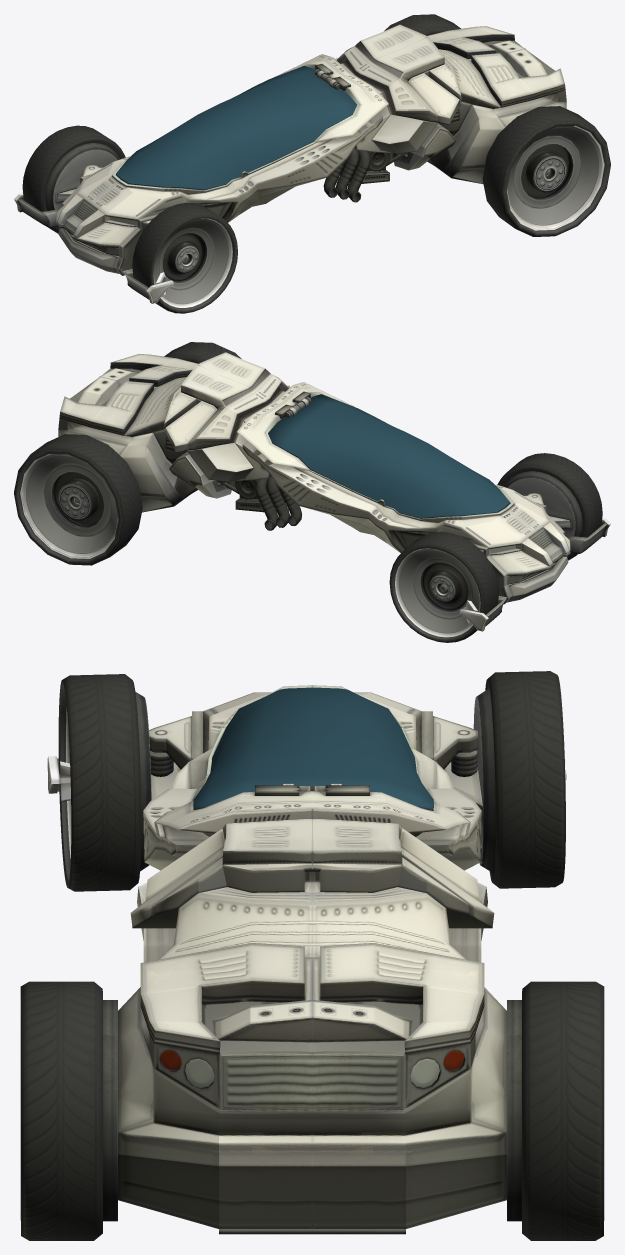
Rendered from bs_interceptor.fbx.
The picture shows the model from 3 angles, top to bottom: view 1: azimuth 30°, elevation 25°; view 2: azimuth 150°, elevation 25°; view 3: azimuth 270°, elevation 25°; orthographic projection. The views are drawn at different scales.
Parts seen in each view (by area): view 1: bs_interceptor; view 2: bs_interceptor; view 3: bs_interceptor.
Part boxes in pixels (<box>): bs_interceptor: <box>14,14,610,313</box>; bs_interceptor: <box>14,342,610,642</box>; bs_interceptor: <box>20,671,604,1240</box>.
Bounding box in the file's own units: 241 × 460 × 147.
3 materials, 1 textured.
